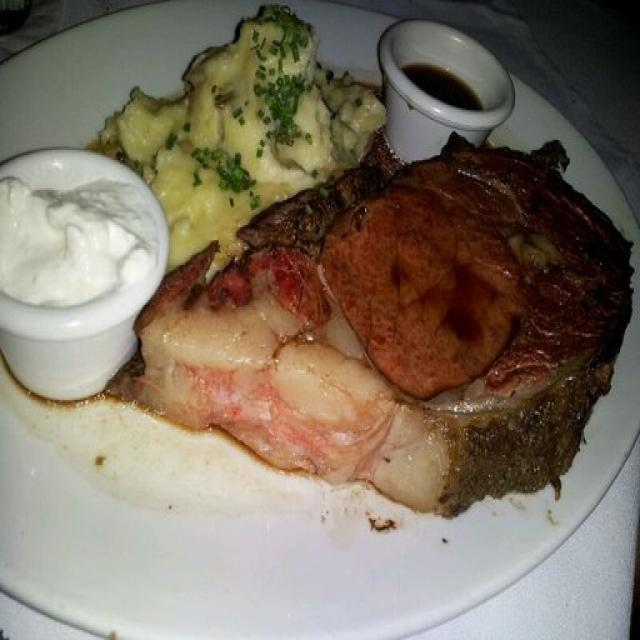Beef: (135, 127, 625, 503)
